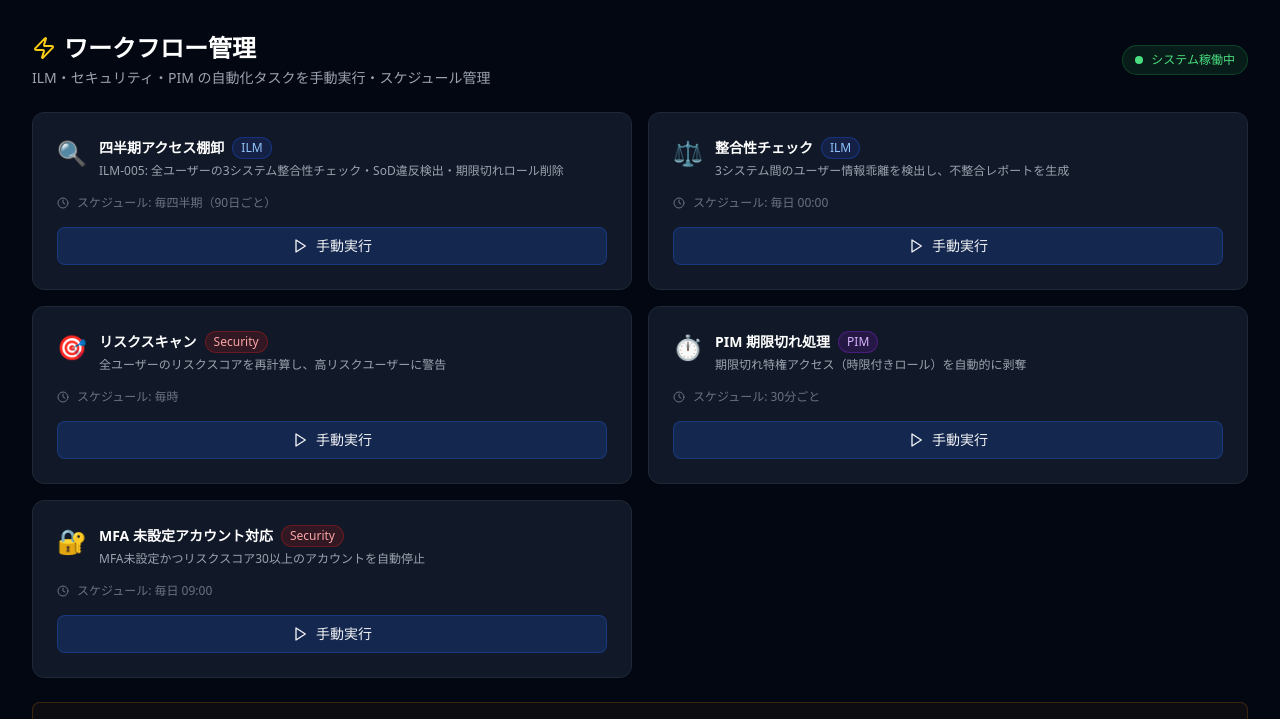
Scenario: WorkflowsPage › 失敗時にエラーメッセージ表示
Click the button "手動実行" below "毎四半期（90日ごと）" at (332, 246), box x1=57 y1=227 x2=607 y2=265
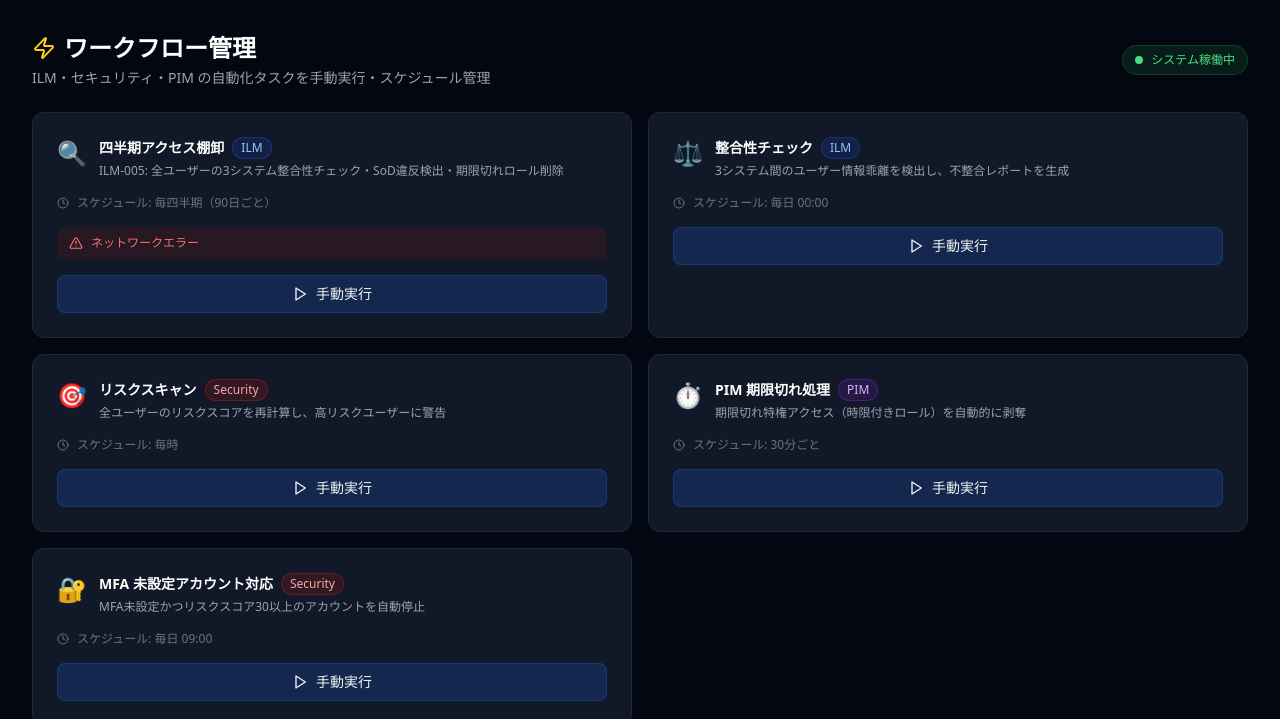
Check: the text "ネットワークエラー" is shown, box x1=57 y1=227 x2=607 y2=259
